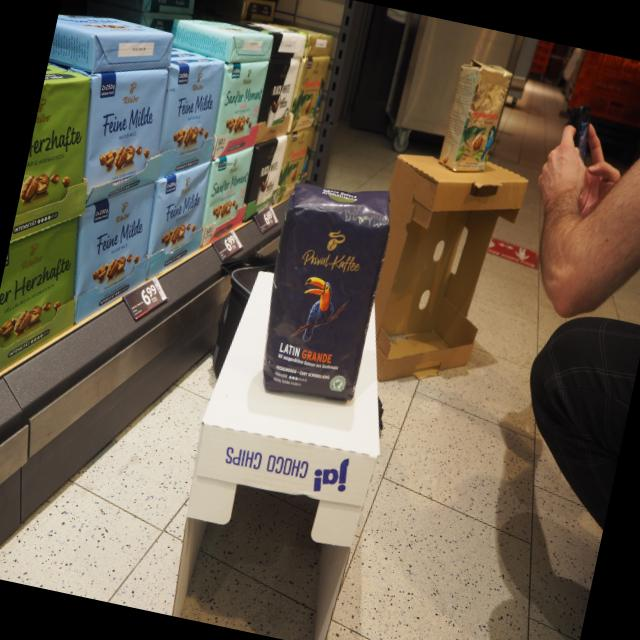LG Bohne: (255, 172, 401, 407)
